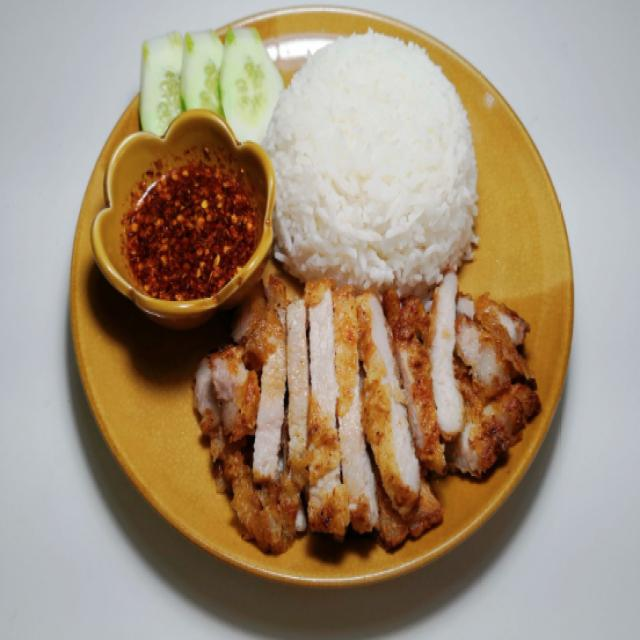Carbohydrate: (272, 29, 478, 282)
Kaow-Friedpork: (66, 7, 570, 586)
Protein: (196, 279, 544, 543)
Vegetable: (139, 26, 282, 140)
